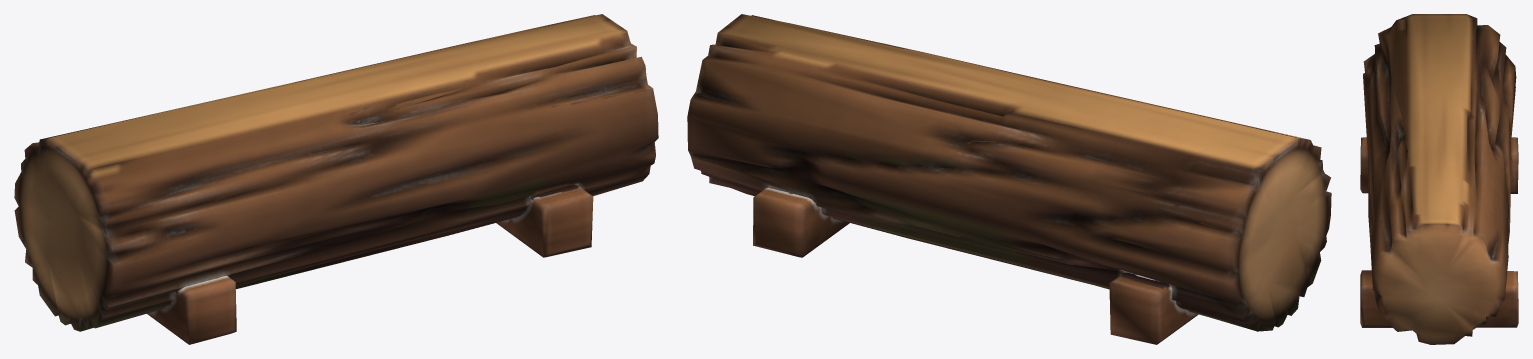
Rendered from log_seat.glb.
3 renders of one model, left to right at view 1: azimuth 30°, elevation 25°; view 2: azimuth 150°, elevation 25°; view 3: azimuth 270°, elevation 25°, orthographic. The views are drawn at different scales.
Visible parts, largest first — view 1: log_seat; view 2: log_seat; view 3: log_seat.
Boxes of the visible parts, bbox=[...] form: log_seat: bbox=[14, 14, 658, 344]; log_seat: bbox=[687, 14, 1331, 344]; log_seat: bbox=[1360, 14, 1518, 344].
Bounding box in the file's own units: 1.31 × 0.3967 × 0.42.
1 material, 1 textured.
